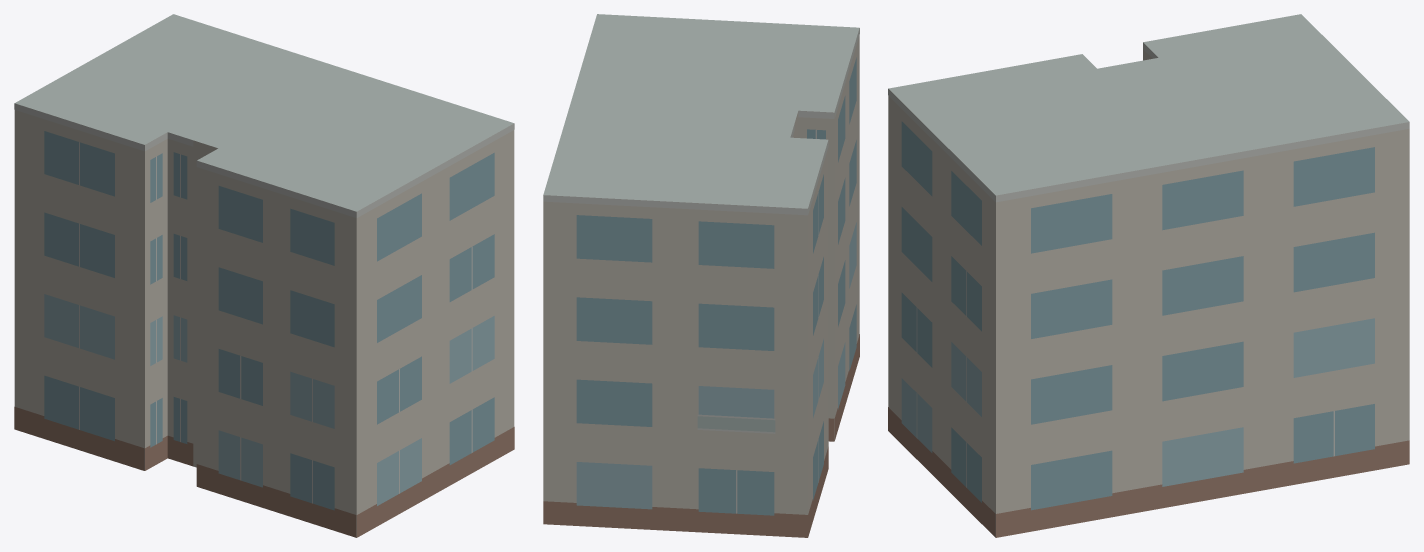
The model's file is survey-upis-32618840.glb.
The picture shows the model from 3 angles, left to right: view 1: azimuth 30°, elevation 25°; view 2: azimuth 150°, elevation 25°; view 3: azimuth 270°, elevation 25°; orthographic projection. The views are drawn at different scales.
Visible parts, largest first — view 1: survey-upis-32618840.tmp; view 2: survey-upis-32618840.tmp; view 3: survey-upis-32618840.tmp.
Boxes of the visible parts, <box> form: survey-upis-32618840.tmp: <box>14,14,514,537</box>; survey-upis-32618840.tmp: <box>543,14,859,537</box>; survey-upis-32618840.tmp: <box>888,14,1409,537</box>.
Size of the model in its own units: 13.94 by 12.25 by 16.92.
